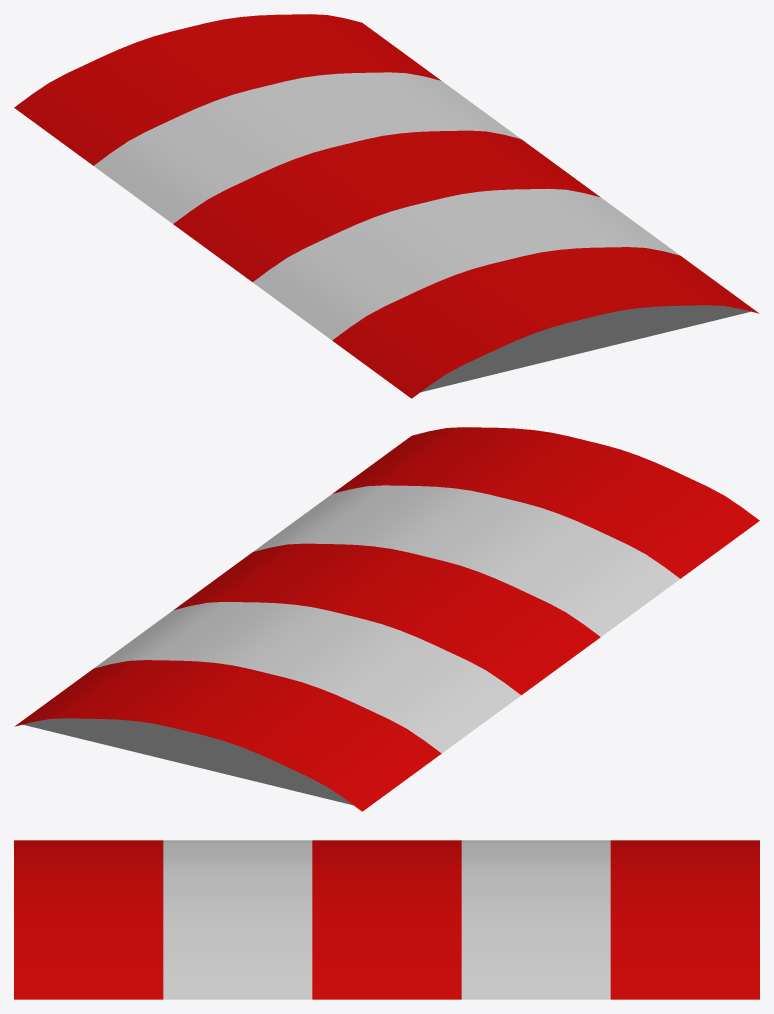
The model's file is red-white-curb.dae.
3 views of the same model, one above another, from view 1: azimuth 30°, elevation 25°; view 2: azimuth 150°, elevation 25°; view 3: azimuth 270°, elevation 25° (orthographic). The views are drawn at different scales.
Parts seen in each view (by area): view 1: pPlane1, pPlane2; view 2: pPlane1, pPlane2; view 3: pPlane1.
Part boxes in pixels (x1,y1,x2,y2): pPlane1: (14,14,759,398); pPlane2: (421,305,750,392); pPlane1: (14,427,759,811); pPlane2: (23,718,352,805); pPlane1: (14,840,759,999).
Bounding box in the file's own units: 1 × 0.104 × 1.98.
